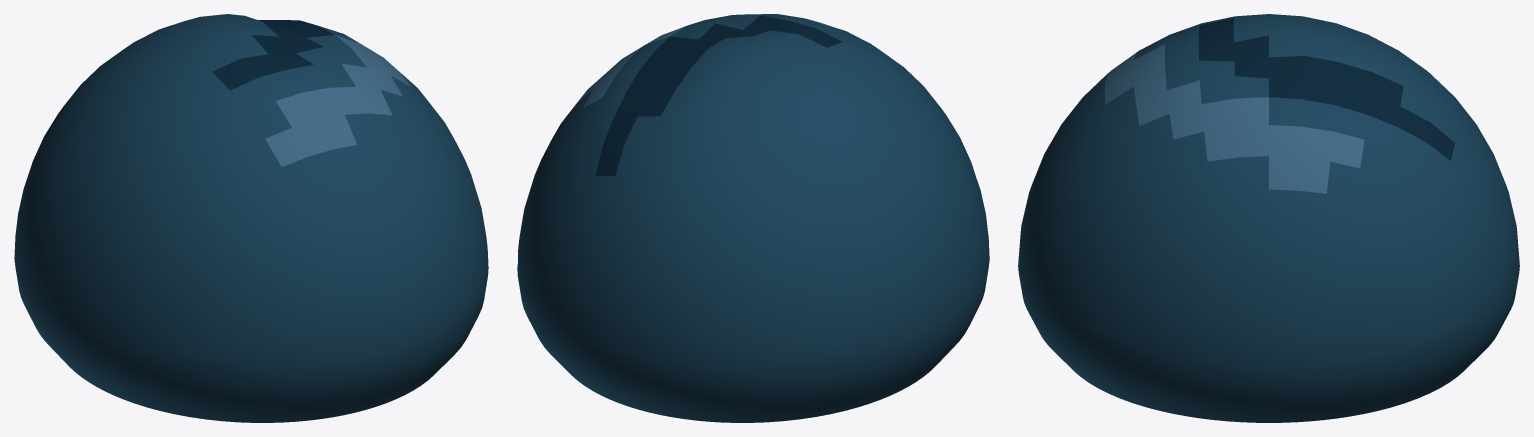
File: newshn-125.glb
3 renders of one model, left to right at view 1: azimuth 30°, elevation 25°; view 2: azimuth 150°, elevation 25°; view 3: azimuth 270°, elevation 25°, orthographic.
Visible parts, largest first — view 1: newshn-125; view 2: newshn-125; view 3: newshn-125.
Part boxes in pixels (bbox=[...]): newshn-125: bbox=[14, 14, 488, 422]; newshn-125: bbox=[517, 14, 989, 422]; newshn-125: bbox=[1018, 14, 1519, 422].
Size of the model in its own units: 1.26 by 0.8971 by 1.34.
